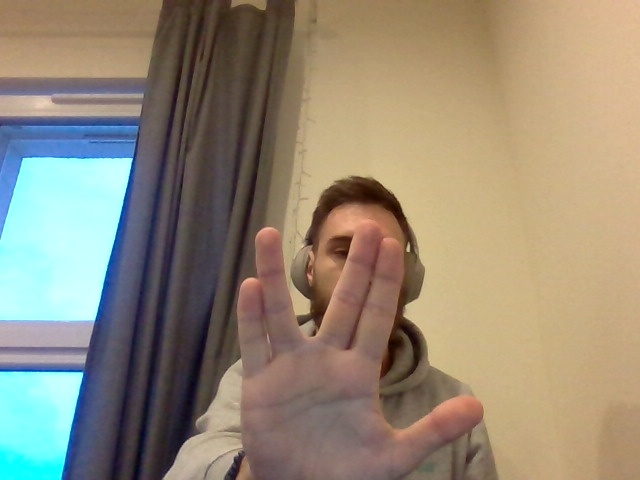LiveLong: (236, 220, 484, 480)
